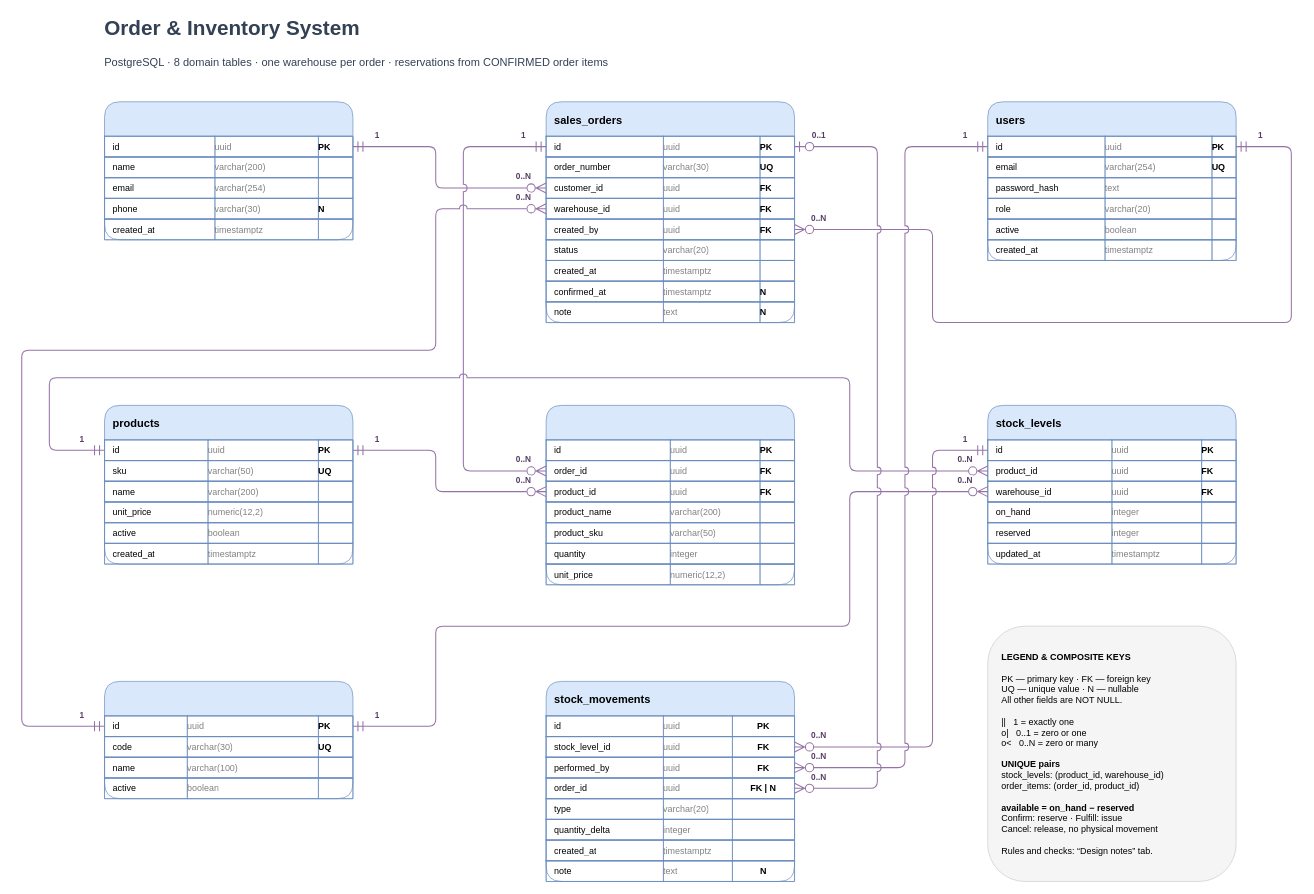
Some shapes in this 1314 by 894 pixel diagram are drawn without their labels. The shapes that lost their labels are listed below. From the top down, each one's box as (x1, y1, x2, y2) in pixels, then its label:
(104, 101, 353, 240): customers
(545, 405, 795, 585): order_items
(104, 681, 353, 799): warehouses
